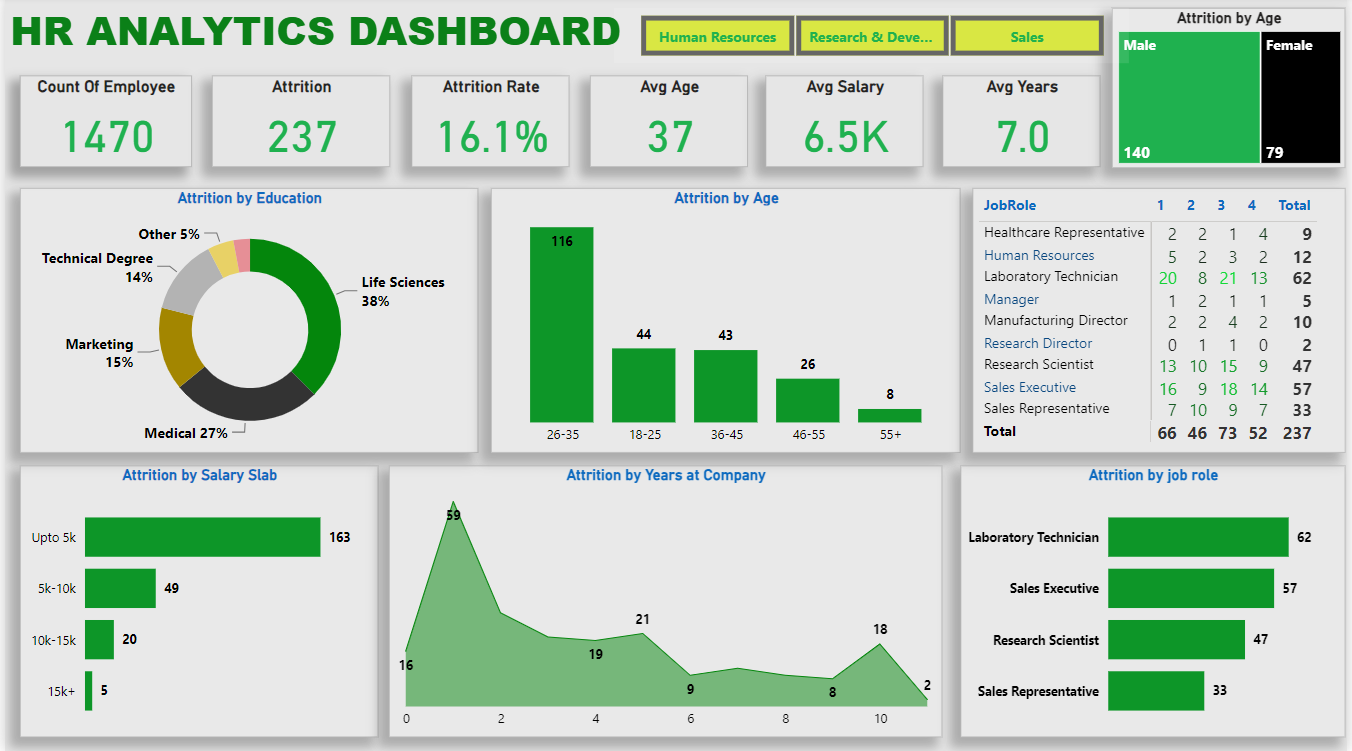

The page's visual inventory and layout, read from the dashboard file:
{"tool":"powerbi","page":{"name":"Page 1","canvas":[1280,720],"ordinal":0},"visuals":[{"type":"card","title":"Count Of Employee ","fields":{"Values":["CountNonNull(HR_Analytics.EmpID)"]},"box":[14.3,76.3,163.7,87.4],"z":0},{"type":"card","title":"Attrition","fields":{"Values":["Sum(HR_Analytics.AttritionCount)"]},"box":[197.1,76.3,170.1,87.4],"z":1000},{"type":"card","title":"Attrition Rate","fields":{"Values":["HR_Analytics.AttritionRate"]},"box":[387.8,76.3,151,87.4],"z":2000},{"type":"card","title":"Avg Age","fields":{"Values":["Avg(HR_Analytics.Age)"]},"box":[557.9,76.3,151,87.4],"z":3000},{"type":"card","title":"Avg Salary","fields":{"Values":["Avg(HR_Analytics.MonthlyIncome)"]},"box":[726.4,76.3,151,87.4],"z":4000},{"type":"card","title":"Avg Years","fields":{"Values":["Avg(HR_Analytics.YearsAtCompany)"]},"box":[894.8,76.3,151,87.4],"z":5000},{"type":"donutChart","title":"Attrition by Education","fields":{"Category":["HR_Analytics.EducationField"],"Y":["Sum(HR_Analytics.AttritionCount)"]},"box":[14.3,182.8,437.1,252.7],"z":6000},{"type":"columnChart","title":"Attrition by Age","fields":{"Category":["HR_Analytics.AgeGroup"],"Y":["Sum(HR_Analytics.AttritionCount)"]},"box":[464.1,182.8,448.2,252.7],"z":7000},{"type":"pivotTable","fields":{"Rows":["HR_Analytics.JobRole"],"Columns":["HR_Analytics.JobSatisfaction"],"Values":["Sum(HR_Analytics.AttritionCount)"]},"box":[923.4,182.8,356,252.7],"z":8000},{"type":"barChart","title":"Attrition by Salary Slab","fields":{"Category":["HR_Analytics.SalarySlab"],"Y":["Sum(HR_Analytics.AttritionCount)"]},"box":[14.3,448.2,341.7,259.1],"z":9000},{"type":"barChart","title":"Attrition by job role","fields":{"Category":["HR_Analytics.JobRole"],"Y":["Sum(HR_Analytics.AttritionCount)"]},"box":[912.3,448.2,367.2,259.1],"z":10000},{"type":"areaChart","title":"Attrition by Years at Company","fields":{"Category":["HR_Analytics.YearsAtCompany"],"Y":["Sum(HR_Analytics.AttritionCount)"]},"box":[367.2,448.2,527.7,259.1],"z":11000},{"type":"treemap","title":"Attrition by Age","fields":{"Group":["HR_Analytics.Gender"],"Values":["Sum(HR_Analytics.AttritionCount)"]},"box":[1057,11.1,222.5,152.6],"z":12000},{"type":"slicer","fields":{"Values":["HR_Analytics.Department"]},"box":[581.7,11.1,491.1,52.5],"z":13000},{"type":"textbox","box":[0,0,608.7,63.6],"z":14000}]}

Visuals, with their boxes in screenshot pixels (x1, y1, x2, y2), scaled from the page's 1280x720 canvas onto the 1352x751 screenshot:
"Count Of Employee " card: BBox(15, 80, 188, 171)
"Attrition" card: BBox(208, 80, 388, 171)
"Attrition Rate" card: BBox(410, 80, 569, 171)
"Avg Age" card: BBox(589, 80, 749, 171)
"Avg Salary" card: BBox(767, 80, 927, 171)
"Avg Years" card: BBox(945, 80, 1105, 171)
"Attrition by Education" donutChart: BBox(15, 191, 477, 454)
"Attrition by Age" columnChart: BBox(490, 191, 964, 454)
pivotTable - HR_Analytics.JobRole x HR_Analytics.JobSatisfaction: BBox(975, 191, 1351, 454)
"Attrition by Salary Slab" barChart: BBox(15, 467, 376, 738)
"Attrition by job role" barChart: BBox(964, 467, 1351, 738)
"Attrition by Years at Company" areaChart: BBox(388, 467, 945, 738)
"Attrition by Age" treemap: BBox(1116, 12, 1351, 171)
slicer - HR_Analytics.Department: BBox(614, 12, 1133, 66)
textbox: BBox(0, 0, 643, 66)
